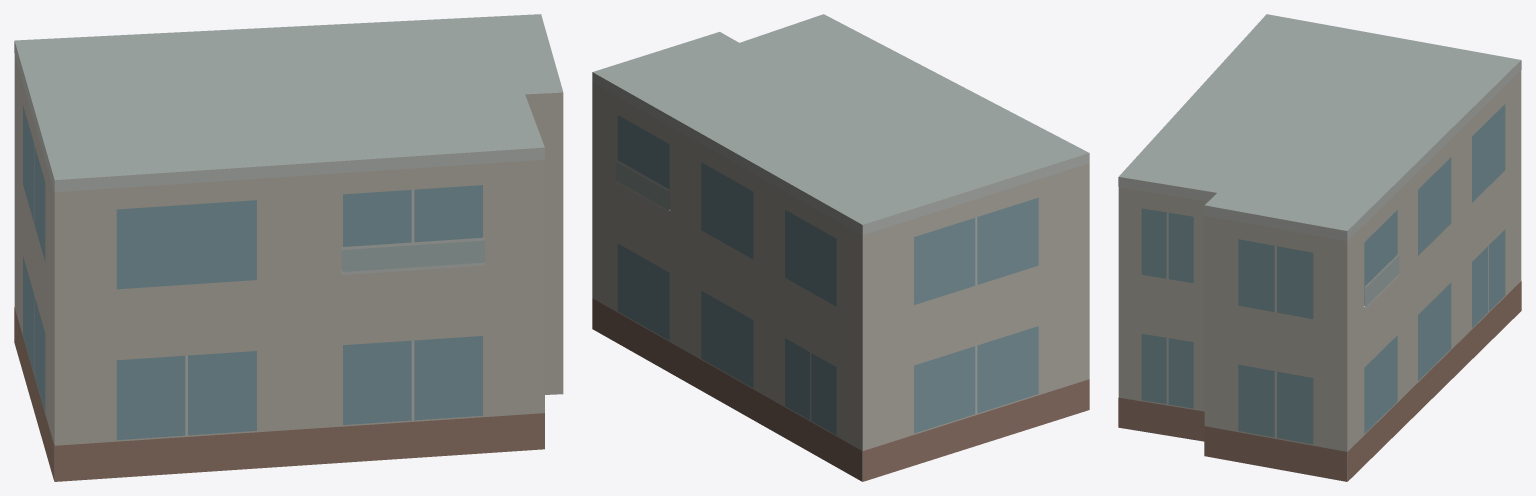
File: survey-upis-33000494.glb
3 views of the same model, side by side, from view 1: azimuth 30°, elevation 25°; view 2: azimuth 150°, elevation 25°; view 3: azimuth 270°, elevation 25° (orthographic). The views are drawn at different scales.
Parts seen in each view (by area): view 1: survey-upis-33000494.tmp; view 2: survey-upis-33000494.tmp; view 3: survey-upis-33000494.tmp.
Part boxes in pixels (x1,y1,x2,y2): survey-upis-33000494.tmp: [14, 14, 563, 481]; survey-upis-33000494.tmp: [592, 14, 1089, 481]; survey-upis-33000494.tmp: [1118, 14, 1521, 481].
Bounding box in the file's own units: 11.34 × 6.1 × 8.89.
